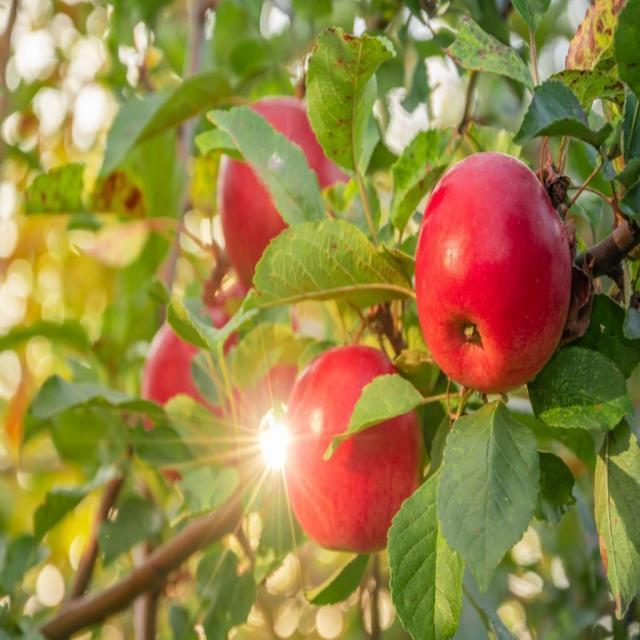Red Apple: (417, 156, 575, 380), (288, 353, 419, 543), (220, 107, 348, 273), (152, 319, 258, 480)
